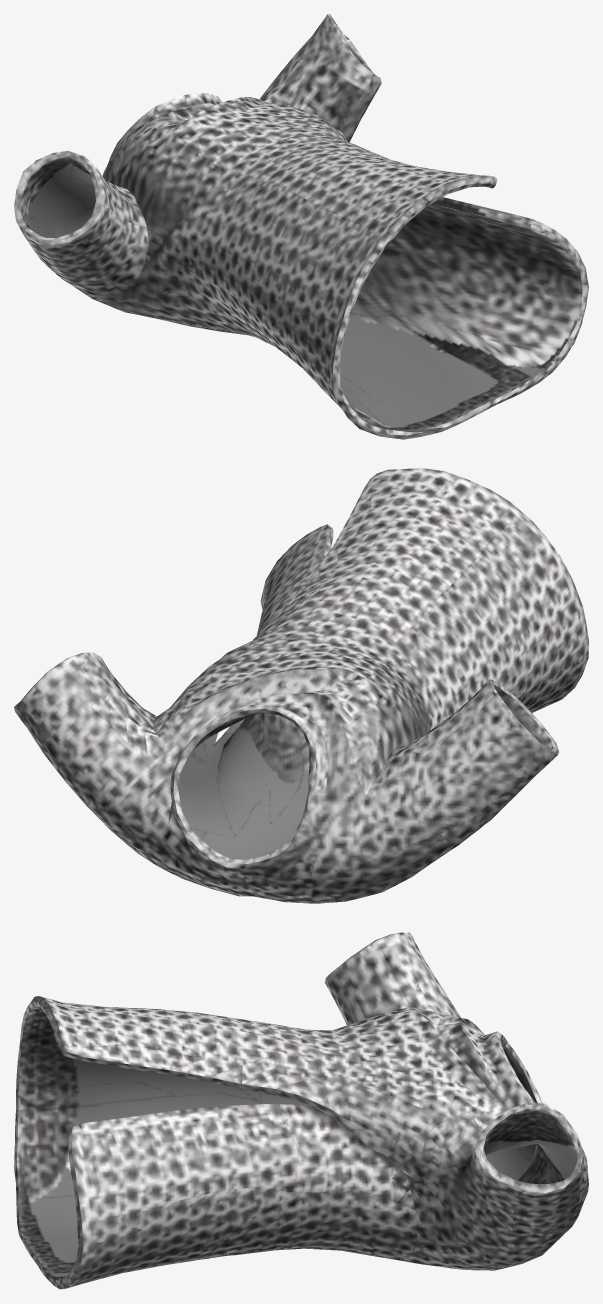
File: item_mm9_10099.glb
3 renders of one model, top to bottom at view 1: azimuth 30°, elevation 25°; view 2: azimuth 150°, elevation 25°; view 3: azimuth 270°, elevation 25°, orthographic. The views are drawn at different scales.
Visible parts, largest first — view 1: d10099; view 2: d10099; view 3: d10099.
Part boxes in pixels (x1=…): d10099: x1=14, y1=14, x2=588, y2=439; d10099: x1=14, y1=468, x2=588, y2=903; d10099: x1=14, y1=932, x2=588, y2=1289.
Size of the model in its own units: 0.9471 by 0.5268 by 1.05.
Materials: 1 (1 with a texture image).
